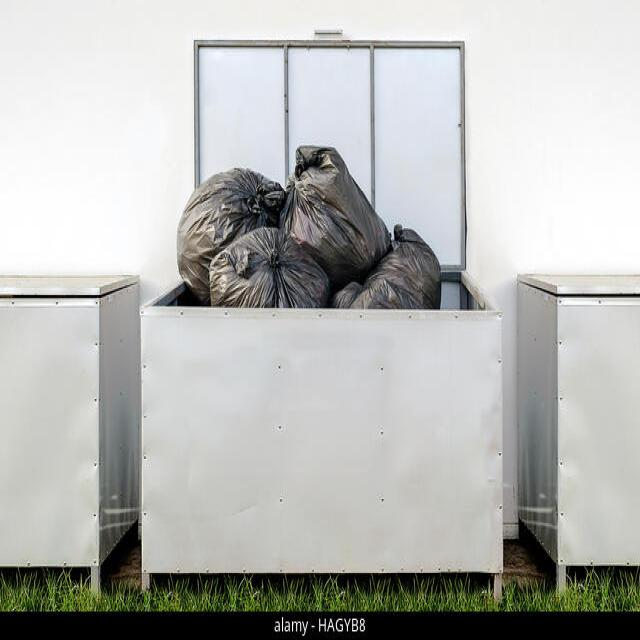trash: (176, 143, 455, 310)
